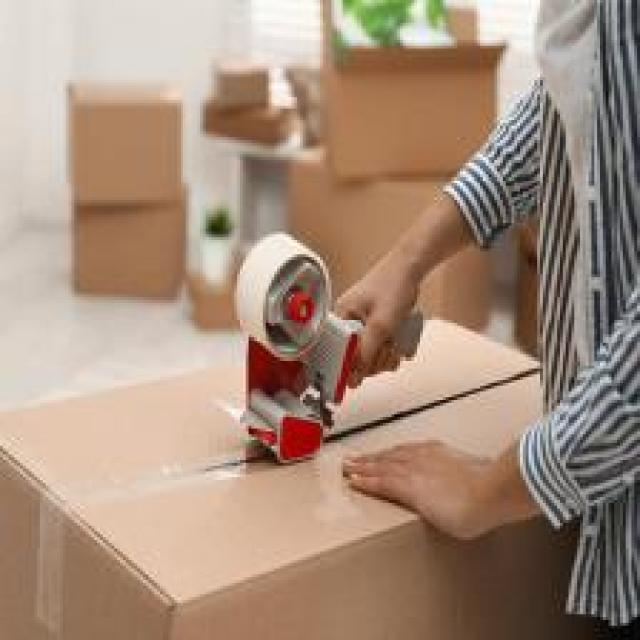box: (0, 309, 572, 640)
